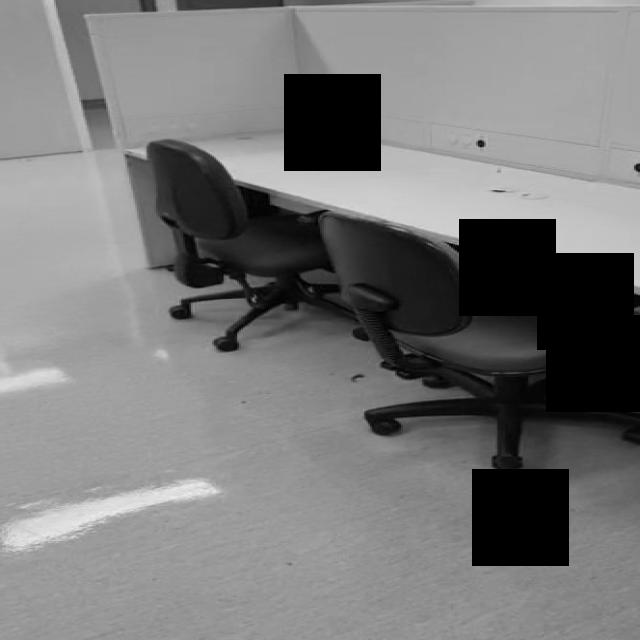cadeira-azul: (147, 140, 370, 352)
